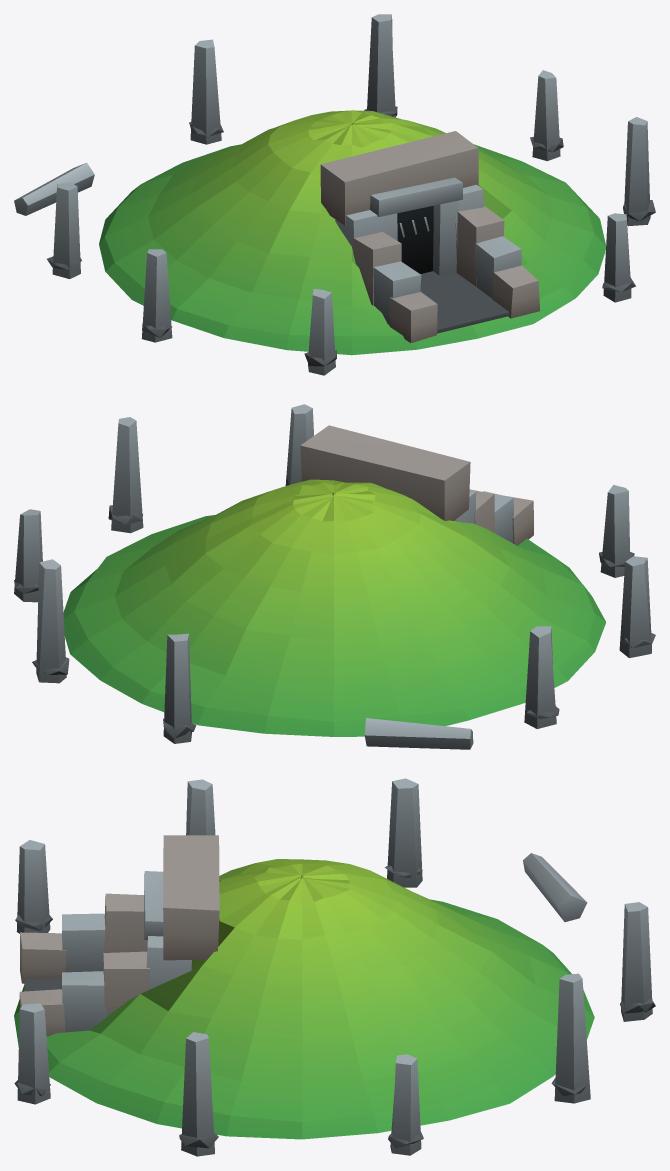
Rendered from barrow_mound.glb.
The picture shows the model from 3 angles, top to bottom: view 1: azimuth 30°, elevation 25°; view 2: azimuth 150°, elevation 25°; view 3: azimuth 270°, elevation 25°; orthographic projection. The views are drawn at different scales.
Parts seen in each view (by area): view 1: barrow_mound; view 2: barrow_mound; view 3: barrow_mound.
Boxes of the visible parts, x1=… form: barrow_mound: x1=14, y1=14, x2=655, y2=375; barrow_mound: x1=14, y1=404, x2=655, y2=749; barrow_mound: x1=14, y1=778, x2=655, y2=1156.
Size of the model in its own units: 14.56 by 3.49 by 13.86.
1 material, 1 textured.
